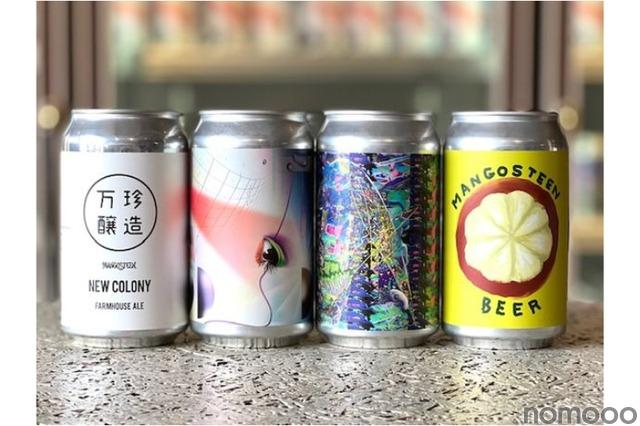metal: (58, 107, 575, 353)
